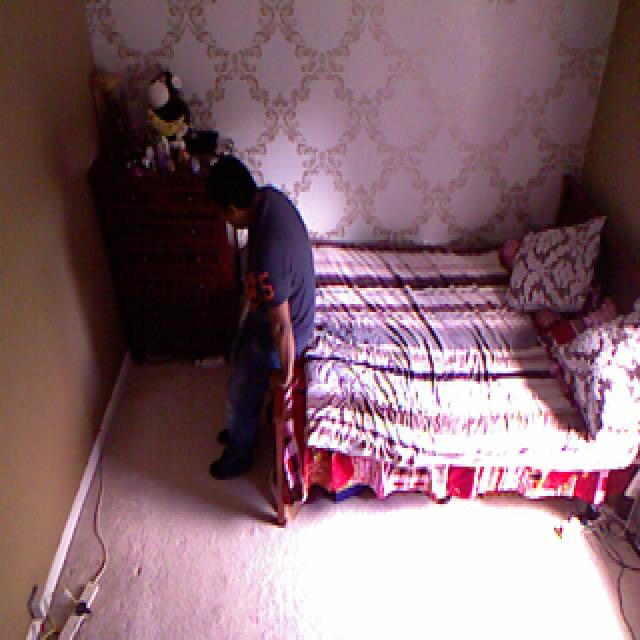standing: (202, 153, 320, 491)
